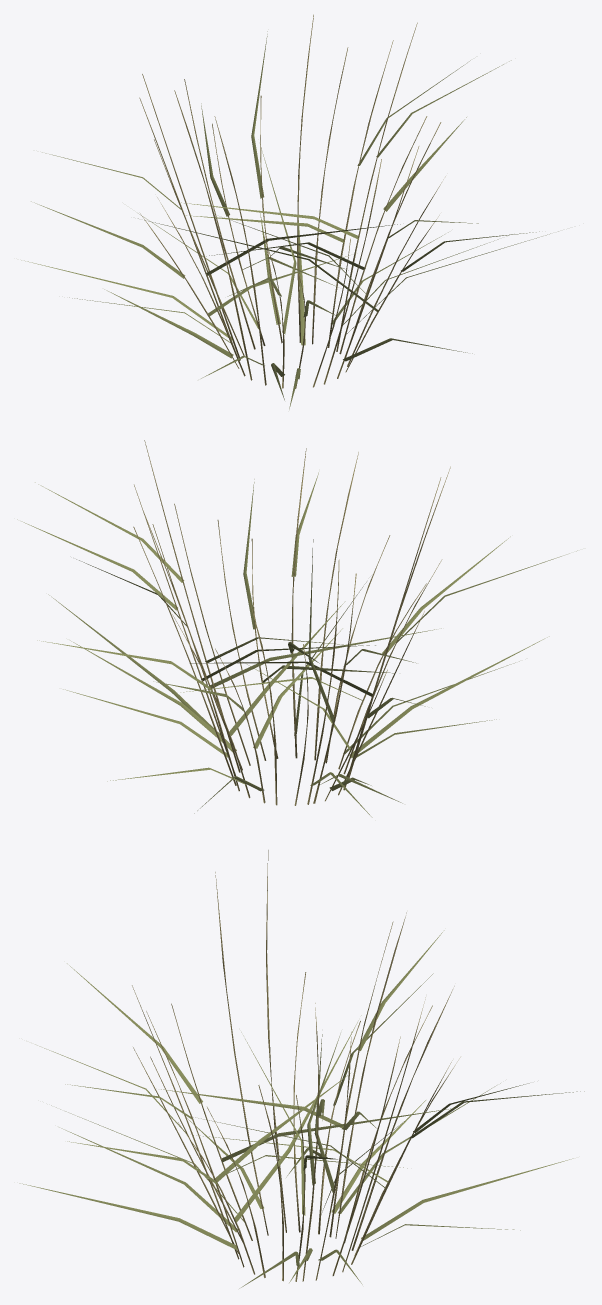
File: Herbes_1_Niveau1.fbx
3 renders of one model, top to bottom at view 1: azimuth 30°, elevation 25°; view 2: azimuth 150°, elevation 25°; view 3: azimuth 270°, elevation 25°, orthographic. The views are drawn at different scales.
Parts seen in each view (by area): view 1: Herbes_1_Niveau1; view 2: Herbes_1_Niveau1; view 3: Herbes_1_Niveau1.
Part boxes in pixels (bbox=[...]): Herbes_1_Niveau1: bbox=[21, 14, 558, 409]; Herbes_1_Niveau1: bbox=[17, 440, 577, 817]; Herbes_1_Niveau1: bbox=[19, 850, 584, 1288].
Size of the model in its own units: 64.7 by 41.94 by 64.31.
